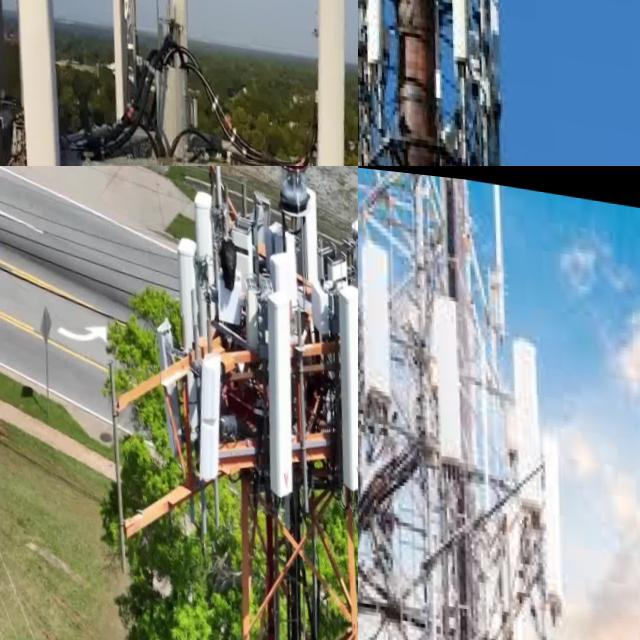GSM Antenna: (520, 401, 577, 640), (248, 277, 304, 494), (416, 263, 473, 463), (321, 266, 358, 494), (6, 0, 54, 166), (96, 0, 143, 166), (500, 327, 546, 494), (358, 231, 400, 407), (157, 0, 201, 166), (180, 341, 228, 485), (311, 0, 348, 166), (144, 307, 180, 455), (168, 222, 205, 354), (358, 0, 409, 73), (186, 175, 219, 286), (469, 0, 512, 74), (432, 0, 478, 66), (342, 194, 358, 313)
